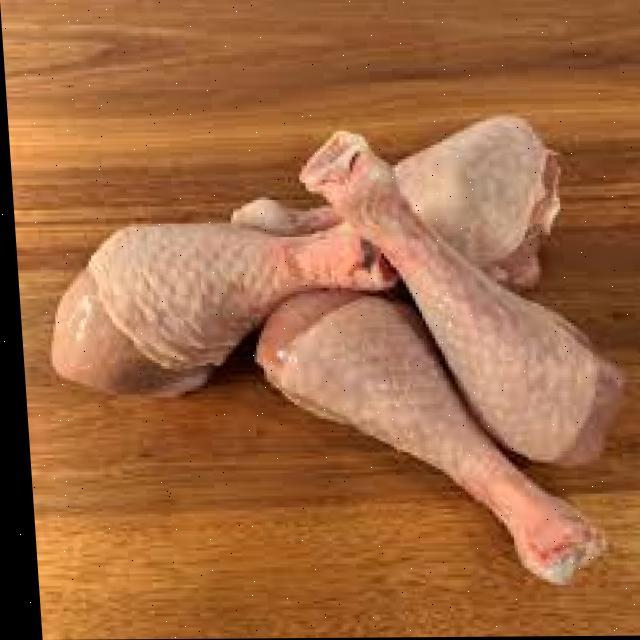leg: (299, 126, 621, 468), (266, 276, 600, 586), (29, 215, 416, 408), (229, 111, 562, 290)
